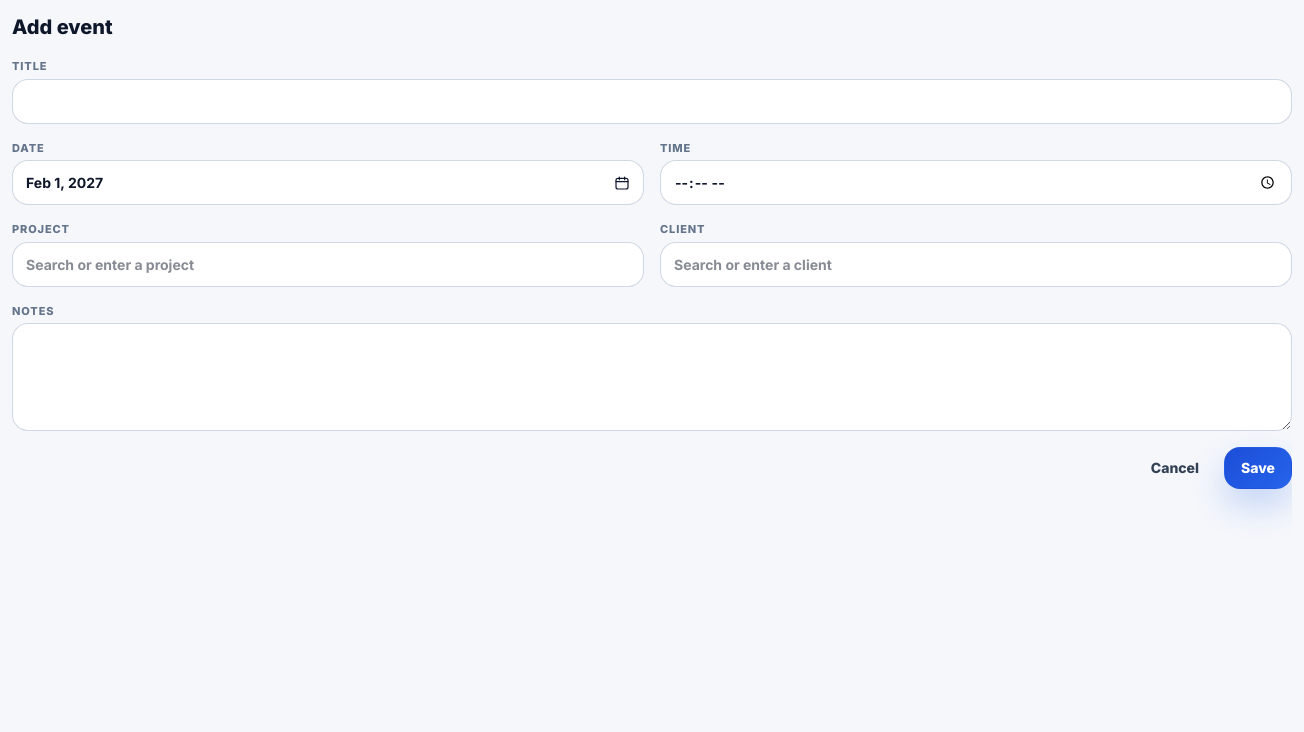
Test case: CalendarEventForm — Project/Client relationship rules › 1. create: selecting a project auto-populates and locks Client
The width and height of the screenshot is (1304, 732).
Click the dropdown labelled "Project" at {"x": 328, "y": 264}, box [12,242,644,286]
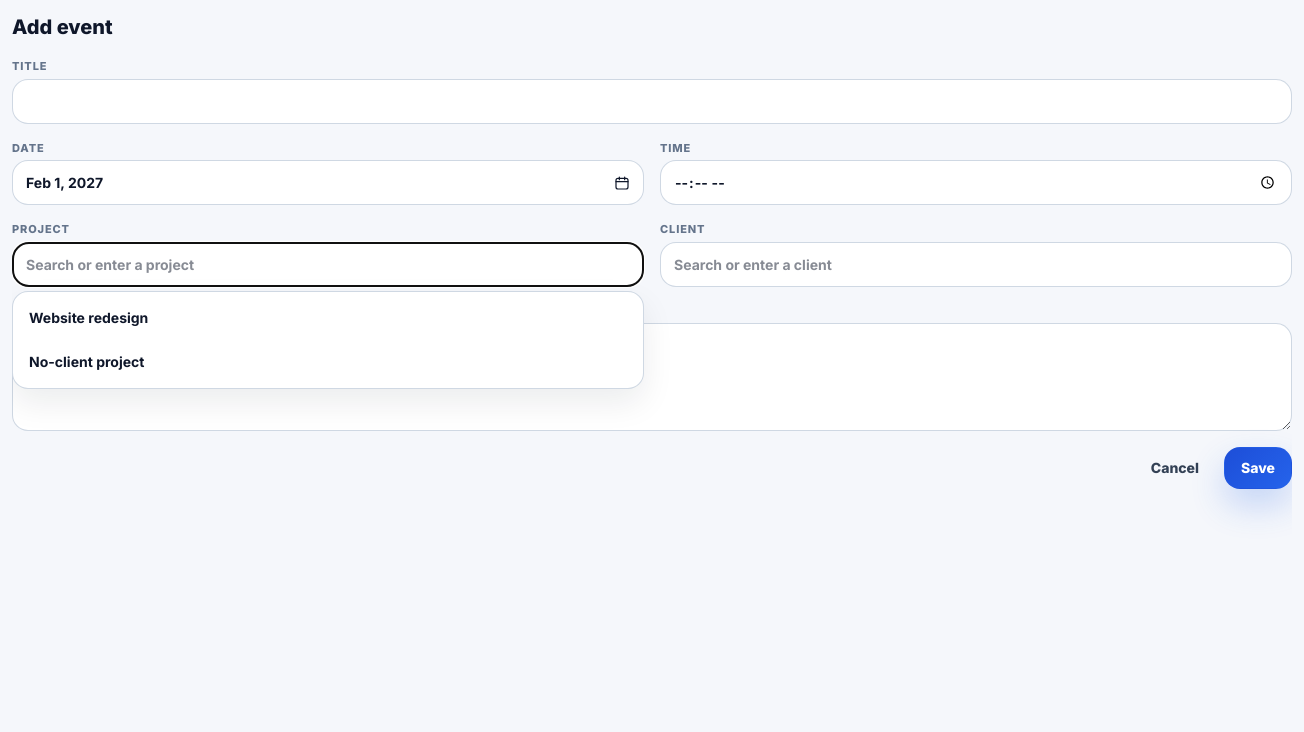
Click the option "Website redesign" at {"x": 89, "y": 318}, box [29,309,148,326]
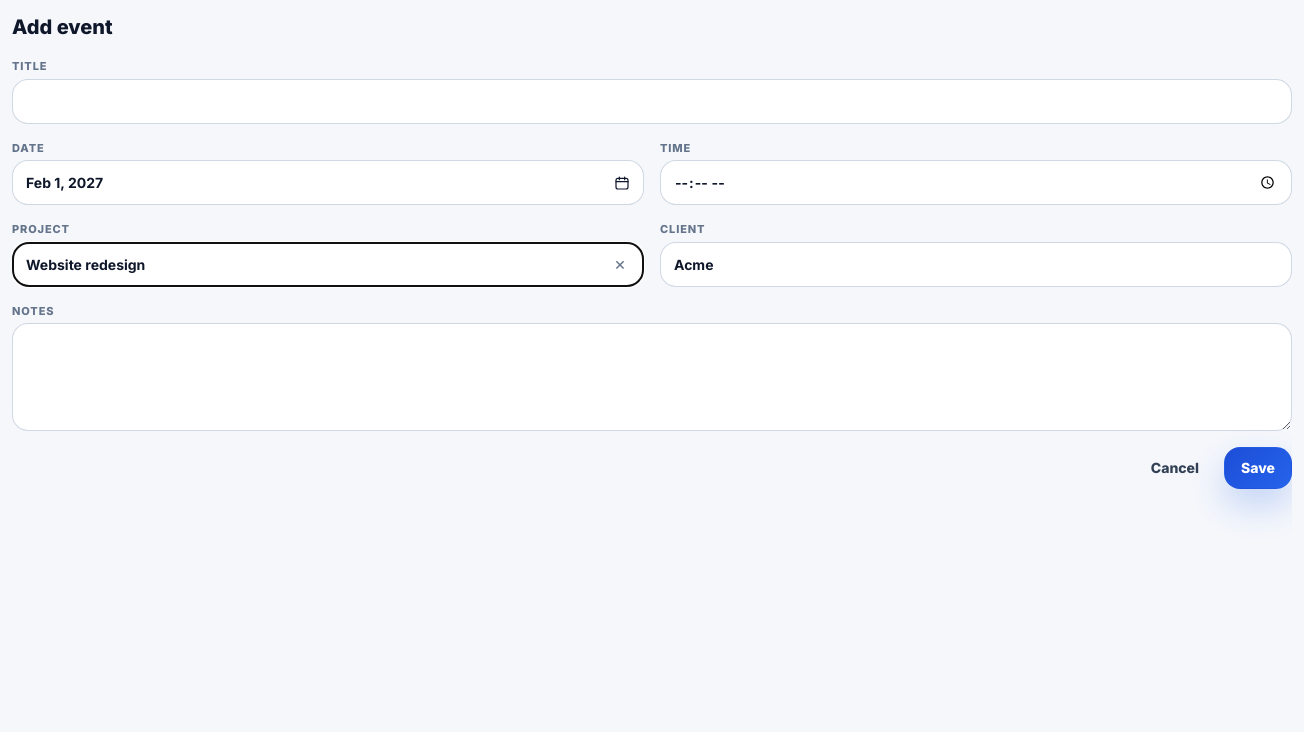
Now the field labelled "Client" is disabled, box [660,242,1292,286]
Now the field labelled "Client" holds "Acme", box [660,242,1292,286]
